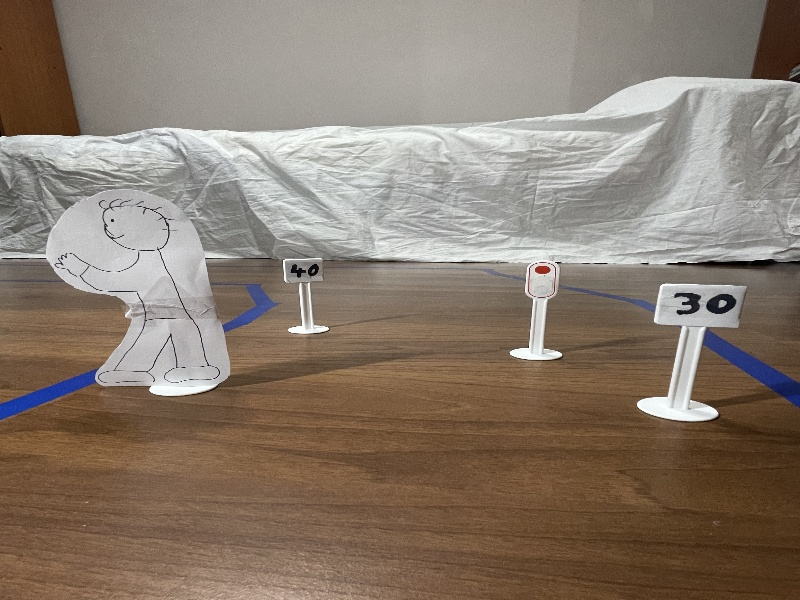persoana: (38, 179, 253, 408)
semafor_rosu: (520, 256, 571, 316)
viteza_limita_30: (649, 271, 761, 342)
viteza_limita_40: (277, 248, 335, 291)
